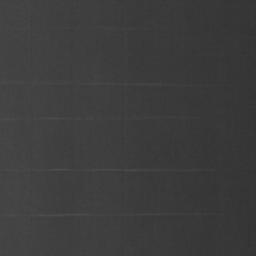Waist folding: (0, 81, 213, 88), (0, 212, 218, 218), (0, 168, 213, 173), (26, 116, 200, 122), (62, 26, 153, 32)
